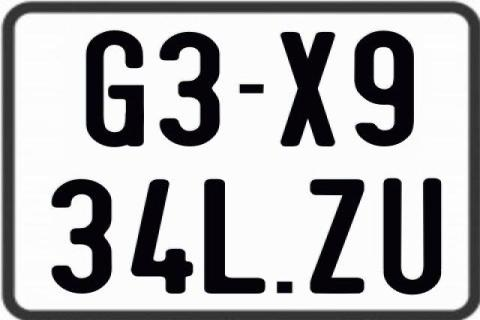0: (131, 177, 199, 293), (159, 32, 225, 150), (353, 29, 414, 150), (50, 179, 110, 293)
G: (83, 29, 142, 149)
L: (204, 179, 265, 295)
U: (380, 176, 442, 296)
X: (281, 31, 338, 148)
Z: (310, 179, 369, 297)
